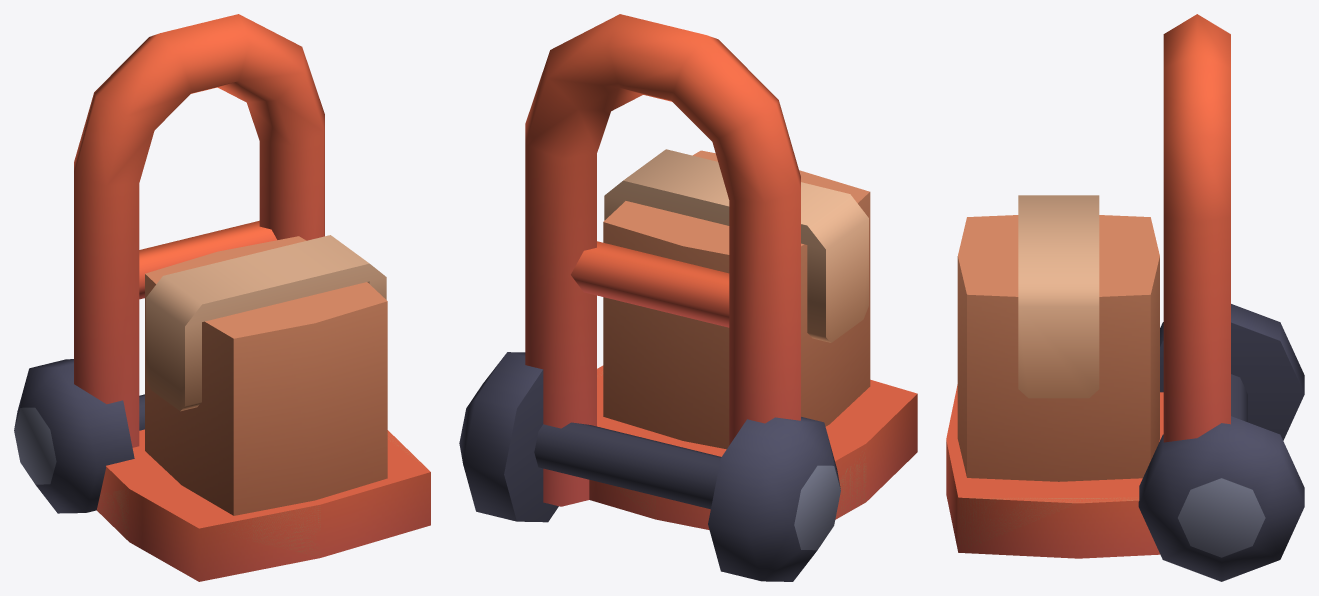
File: hand-truck.glb
3 views of the same model, side by side, from view 1: azimuth 30°, elevation 25°; view 2: azimuth 150°, elevation 25°; view 3: azimuth 270°, elevation 25° (orthographic). The views are drawn at different scales.
Parts seen in each view (by area): view 1: hand-truck, box; view 2: hand-truck, box; view 3: hand-truck, box.
Part boxes in pixels (x1,y1,x2,y2): hand-truck: (14,14,430,581); box: (145,235,387,515); hand-truck: (459,14,917,581); box: (603,149,870,449); hand-truck: (946,14,1304,581); box: (957,195,1159,481).
Bounding box in the file's own units: 0.3733 × 0.5466 × 0.368.
1 material, 1 textured.
